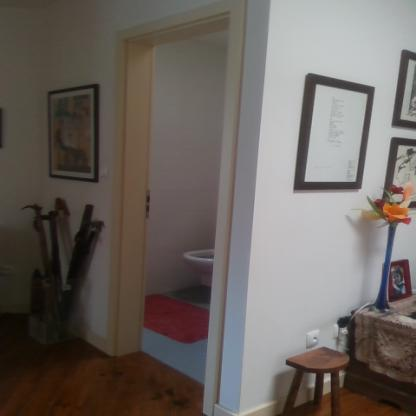open: (103, 6, 246, 416)
